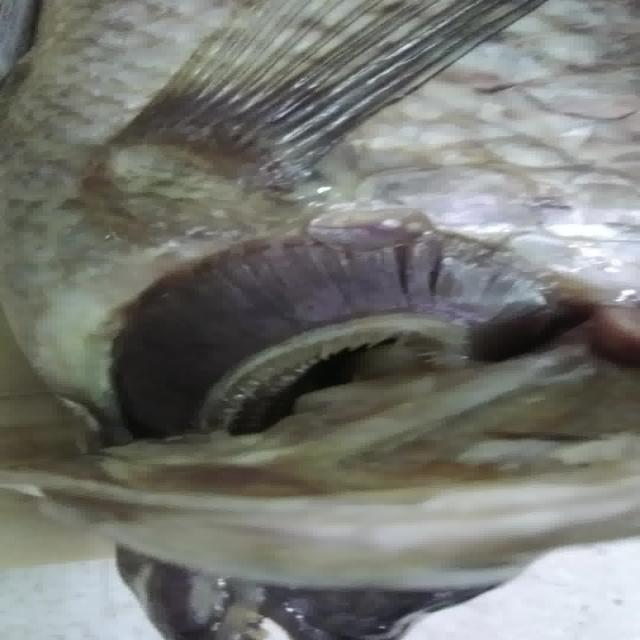Non-Fresh: (63, 216, 577, 444)
